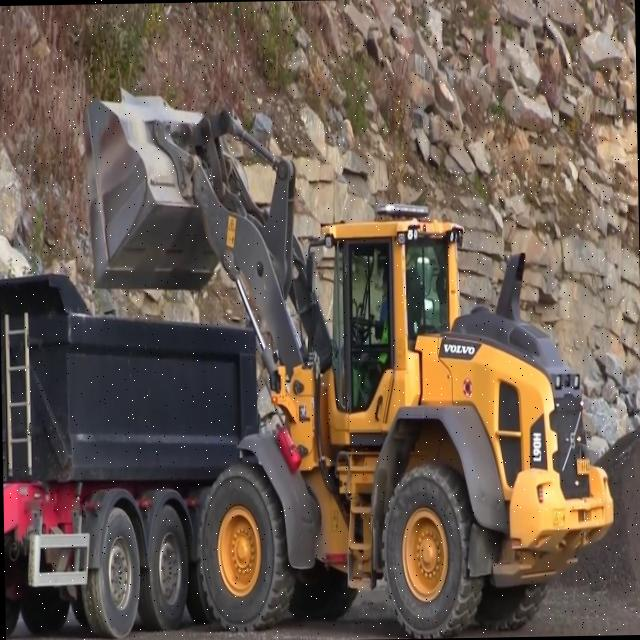Dump Truck: (0, 266, 259, 640)
Loader: (76, 71, 621, 640)
